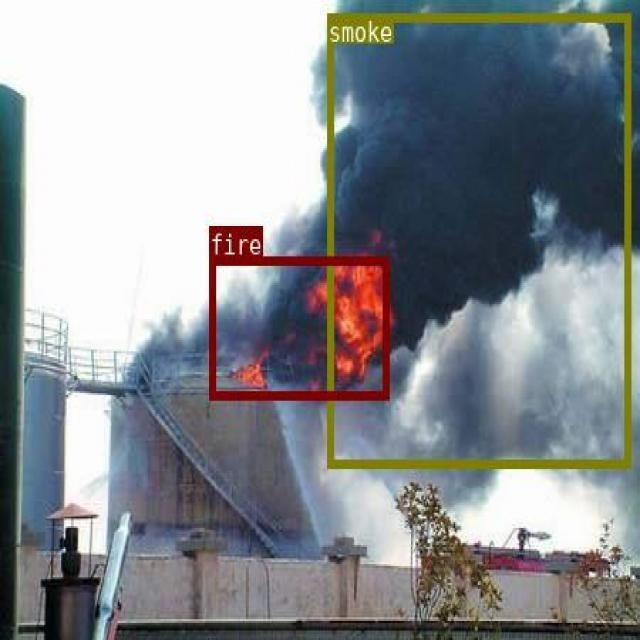fire: (209, 256, 389, 398)
smoke: (327, 12, 629, 467)
